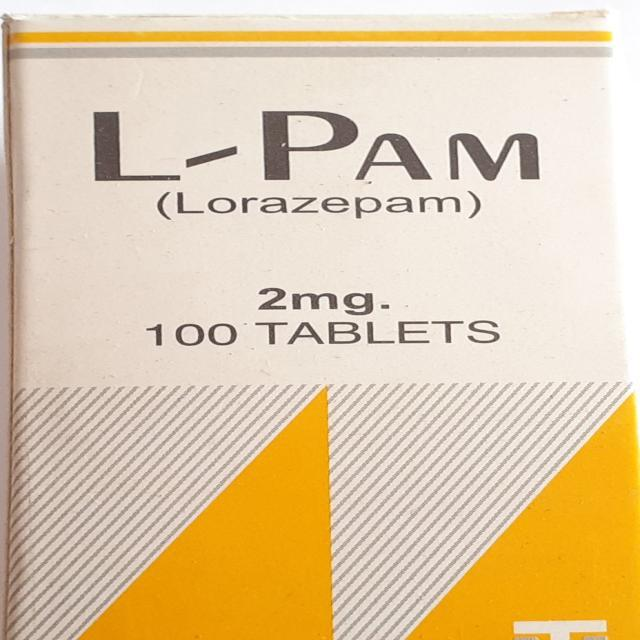drug-name: (82, 104, 544, 188)
